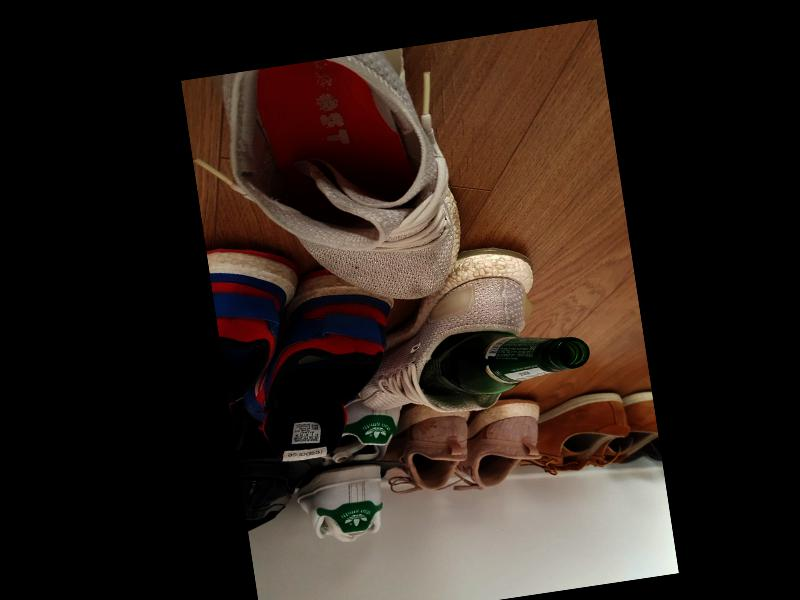Beer: (413, 316, 593, 402)
